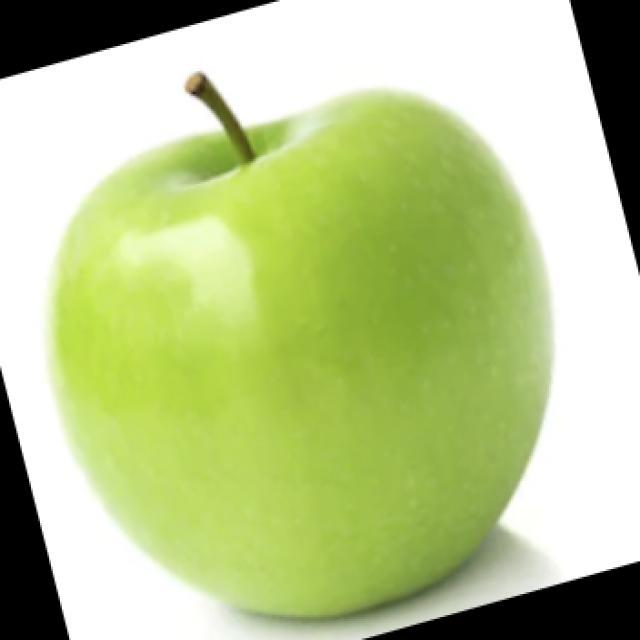Fresh Apple: (73, 103, 542, 617)
